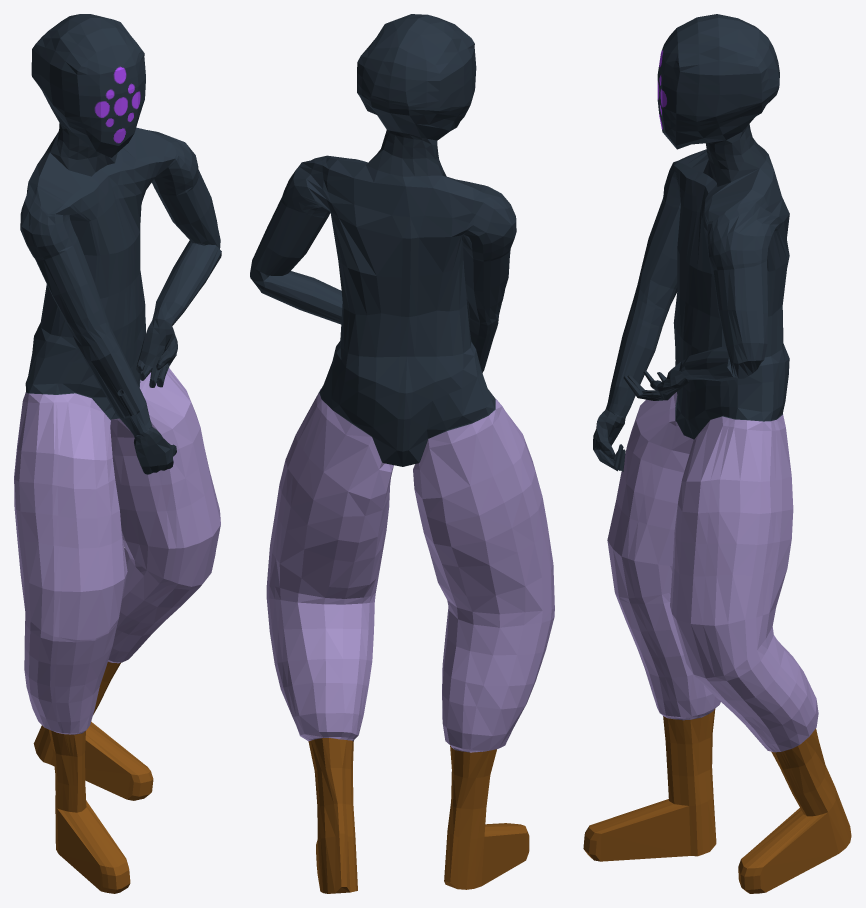
The model's file is Oracle_WB_000004.obj.
3 views of the same model, side by side, from view 1: azimuth 30°, elevation 25°; view 2: azimuth 150°, elevation 25°; view 3: azimuth 270°, elevation 25° (orthographic). The views are drawn at different scales.
Parts seen in each view (by area): view 1: Cube; view 2: Cube; view 3: Cube.
Boxes of the visible parts, box(x1,y1,x2,y2) form: Cube: box(14, 14, 221, 893); Cube: box(250, 14, 554, 893); Cube: box(583, 14, 851, 893).
Bounding box in the file's own units: 1.17 × 3.91 × 1.11.
